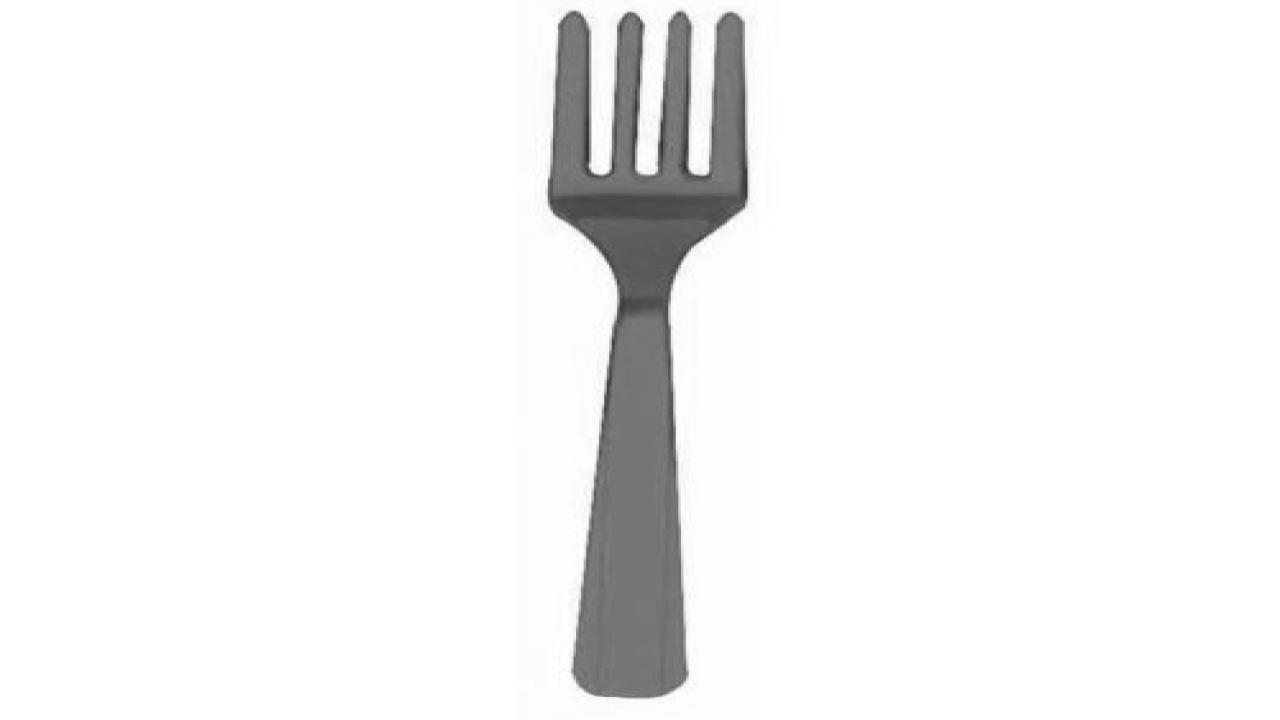fork: (543, 8, 750, 698)
